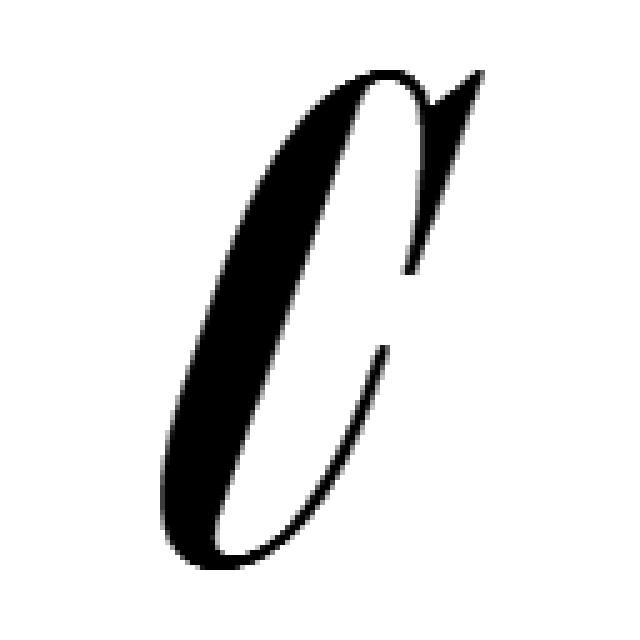C: (160, 70, 485, 575)
